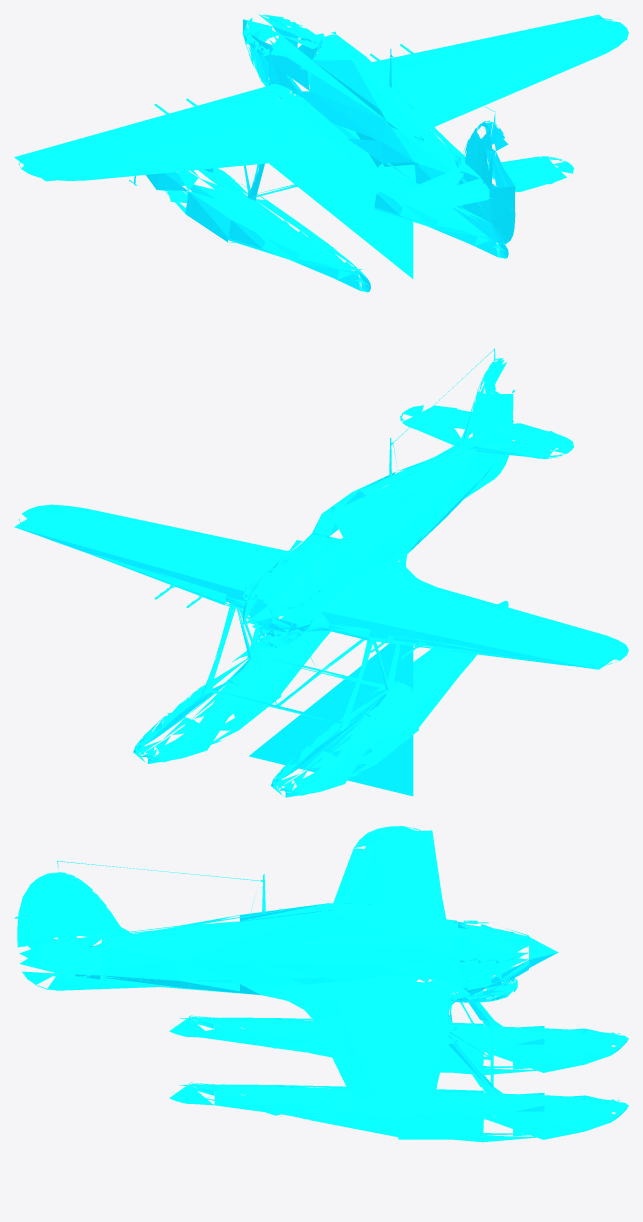
The model's file is PBAF019.glb.
3 renders of one model, top to bottom at view 1: azimuth 30°, elevation 25°; view 2: azimuth 150°, elevation 25°; view 3: azimuth 270°, elevation 25°, orthographic.
Parts seen in each view (by area): view 1: misc; view 2: misc; view 3: misc.
Boxes of the visible parts, x1,y1,x2,y2 form: misc: (14,14,628,292); misc: (14,348,628,797); misc: (14,826,628,1142).
Bounding box in the file's own units: 0.8119 × 0.3987 × 0.7235.
